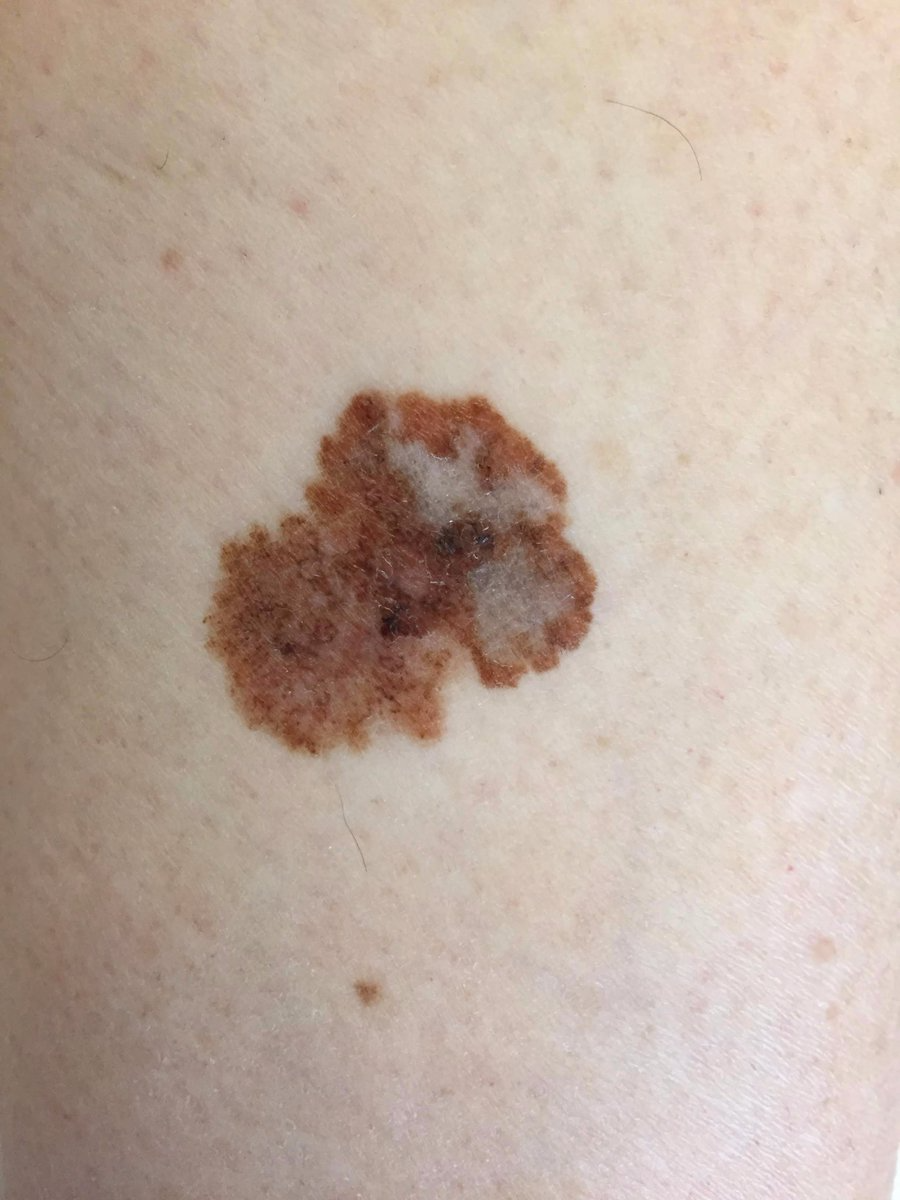Melanoma: (202, 389, 600, 760)
